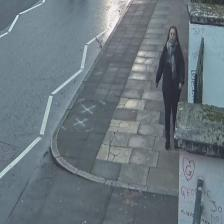person: (155, 24, 185, 148)
